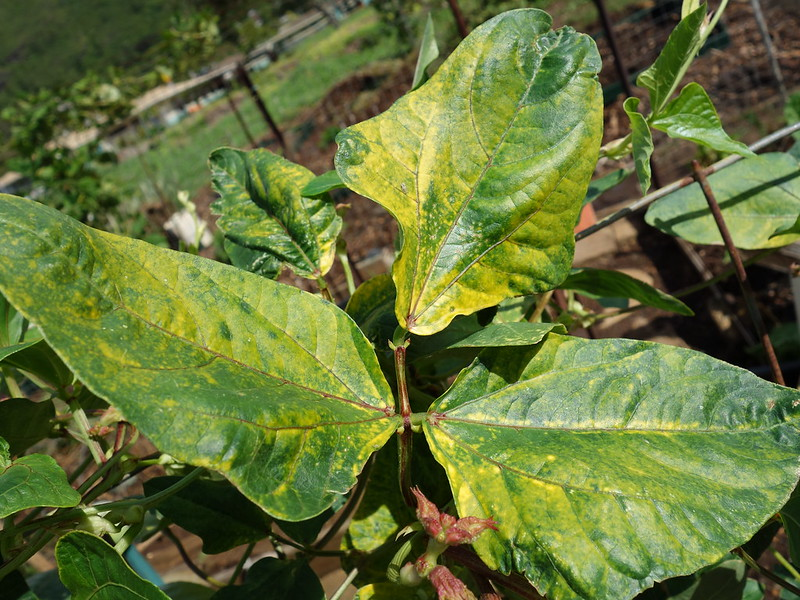StringBeans_Mosaic: (9, 258, 357, 511), (358, 14, 572, 333), (439, 367, 771, 541), (195, 148, 358, 281)
